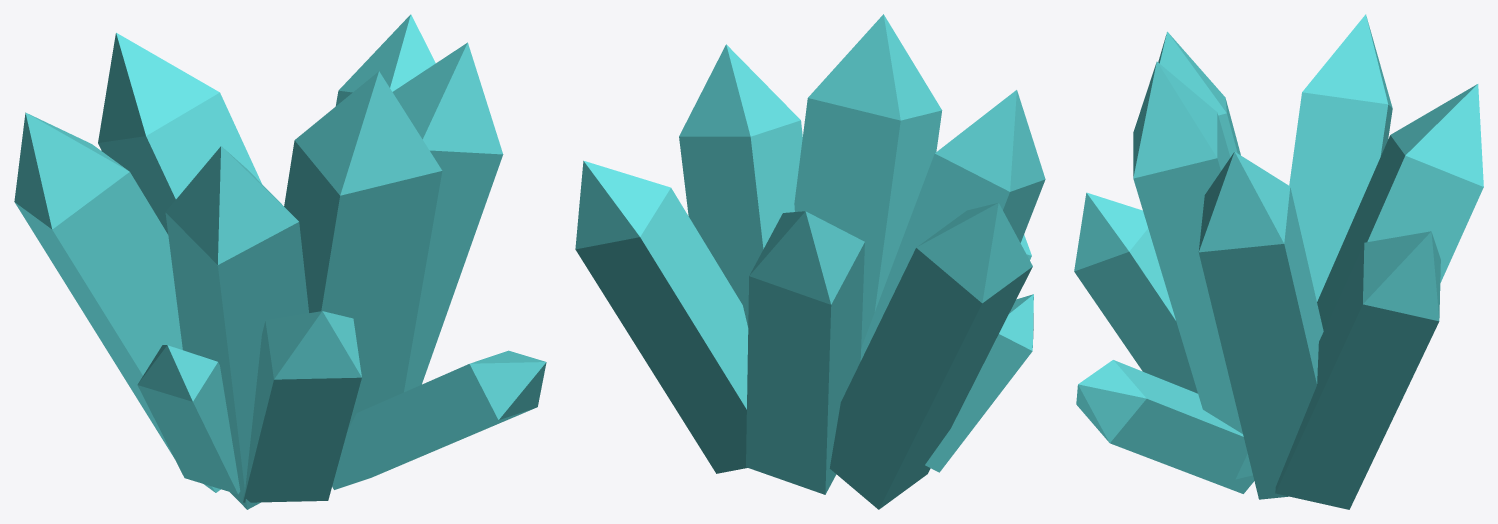
The model's file is Cristaux_Asset_2.FBX.
The picture shows the model from 3 angles, left to right: view 1: azimuth 30°, elevation 25°; view 2: azimuth 150°, elevation 25°; view 3: azimuth 270°, elevation 25°; orthographic projection. The views are drawn at different scales.
Parts seen in each view (by area): view 1: Box316; view 2: Box316; view 3: Box316.
Boxes of the visible parts, x1=… form: Box316: x1=14, y1=14, x2=546, y2=509; Box316: x1=575, y1=14, x2=1045, y2=509; Box316: x1=1074, y1=14, x2=1483, y2=509.
Size of the model in its own units: 1.07 by 1.05 by 0.942.
